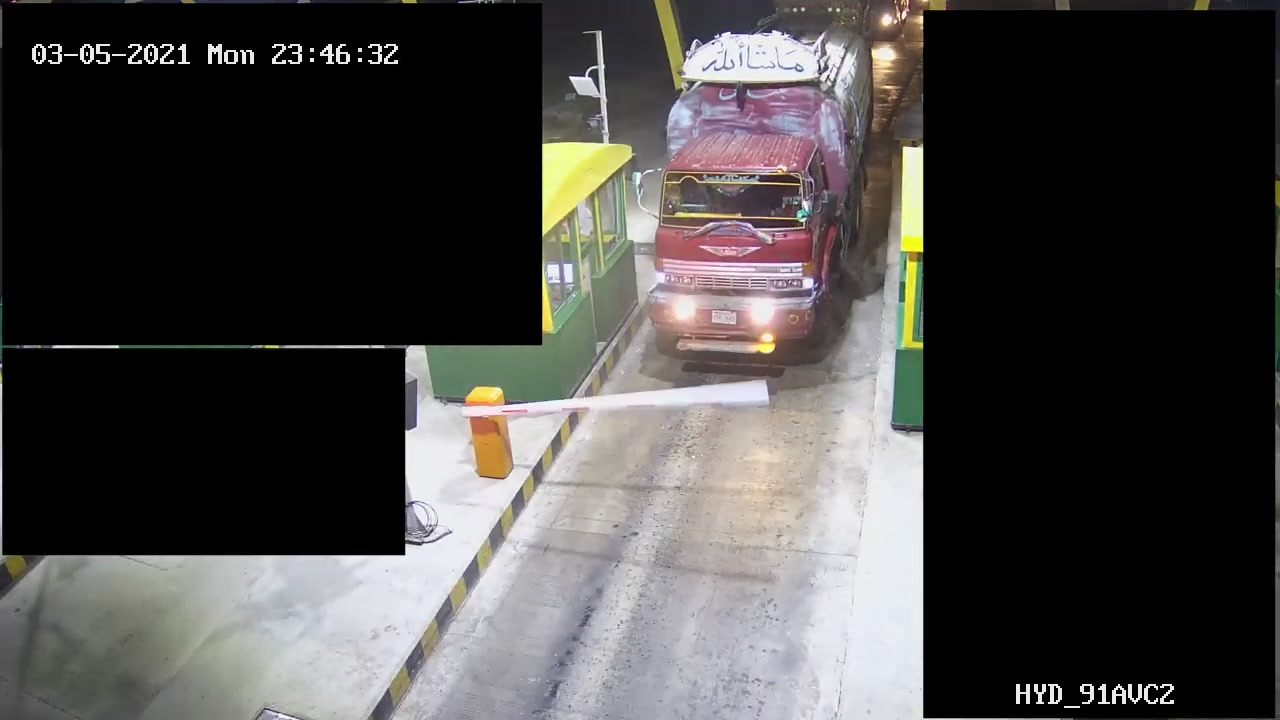F6: (642, 19, 884, 367)
